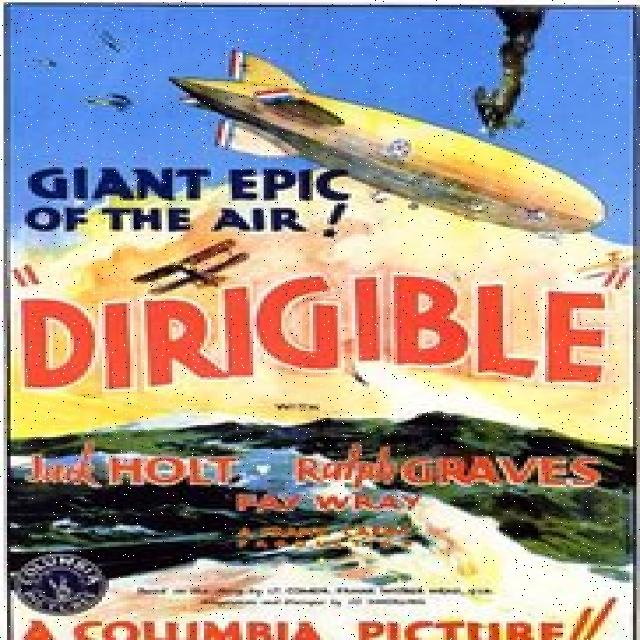movie-judul: (12, 261, 640, 394)
picture: (168, 48, 622, 243)
